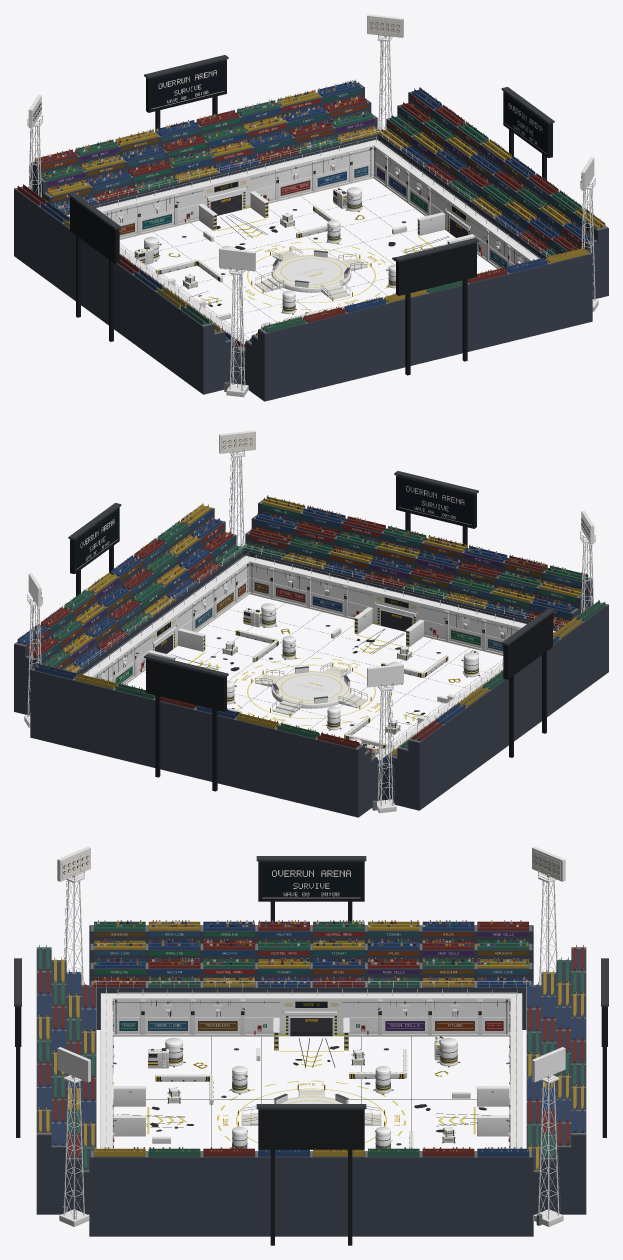
Rendered from arena.glb.
3 renders of one model, top to bottom at view 1: azimuth 30°, elevation 25°; view 2: azimuth 150°, elevation 25°; view 3: azimuth 270°, elevation 25°, orthographic. The views are drawn at different scales.
Visible parts, largest first — view 1: arena_stands, arena_mark, arena_cmu, arena_metal, arena_steel, arena_concrete, arena_trim, arena_dais, arena_fit, arena_lines, arena_glow, arena_dark; view 2: arena_stands, arena_mark, arena_cmu, arena_metal, arena_steel, arena_concrete, arena_trim, arena_dais, arena_fit, arena_lines, arena_glow, arena_dark; view 3: arena_stands, arena_mark, arena_steel, arena_cmu, arena_metal, arena_concrete, arena_trim, arena_fit, arena_lines, arena_glow, arena_dark, arena_dais (+1 smaller).
Boxes of the visible parts, x1,y1,x2,y2 form: arena_stands: [14, 55, 608, 401]; arena_mark: [21, 79, 604, 343]; arena_cmu: [104, 146, 528, 268]; arena_metal: [27, 18, 595, 391]; arena_steel: [28, 14, 594, 344]; arena_concrete: [134, 188, 483, 328]; arena_trim: [102, 151, 598, 397]; arena_dais: [254, 251, 368, 299]; arena_fit: [27, 21, 596, 391]; arena_lines: [120, 176, 498, 311]; arena_glow: [32, 18, 546, 298]; arena_dark: [139, 192, 469, 310]; arena_stands: [14, 471, 608, 817]; arena_mark: [18, 495, 603, 759]; arena_cmu: [94, 562, 518, 684]; arena_metal: [27, 434, 595, 807]; arena_steel: [28, 430, 594, 760]; arena_concrete: [148, 607, 478, 755]; arena_trim: [24, 567, 520, 813]; arena_dais: [254, 667, 368, 715]; arena_fit: [27, 437, 595, 810]; arena_lines: [124, 592, 502, 731]; arena_glow: [76, 434, 590, 714]; arena_dark: [153, 608, 478, 731]; arena_stands: [14, 856, 608, 1245]; arena_mark: [94, 920, 528, 1151]; arena_steel: [57, 846, 565, 1148]; arena_cmu: [112, 999, 510, 1033]; arena_metal: [62, 851, 560, 1219]; arena_concrete: [113, 1033, 509, 1148]; arena_trim: [59, 999, 563, 1226]; arena_fit: [62, 855, 560, 1225]; arena_lines: [147, 1017, 475, 1148]; arena_glow: [62, 850, 560, 1123]; arena_dark: [148, 1016, 457, 1148]; arena_dais: [241, 1090, 381, 1149].
Size of what is drawn, in the model's own units: 95.3 by 29.5 by 95.3.
